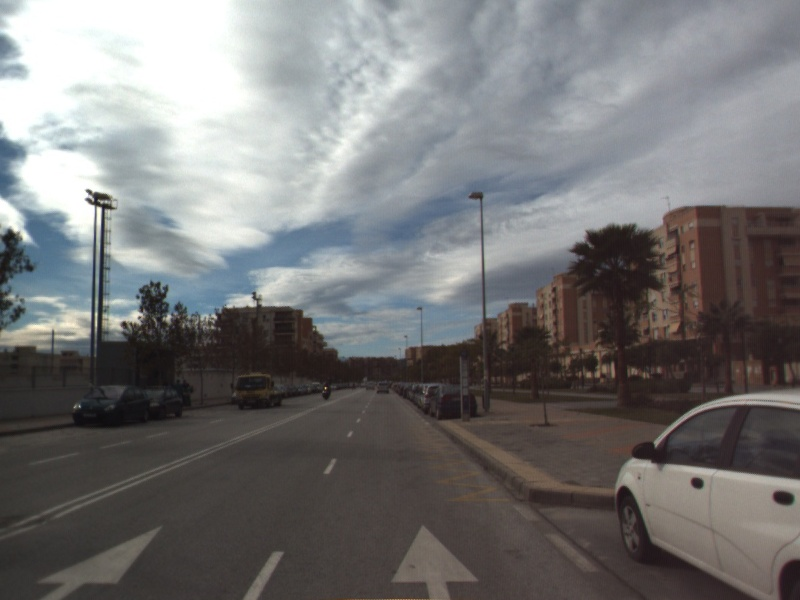STRAIGHT: (32, 523, 165, 600), (388, 523, 481, 600)
